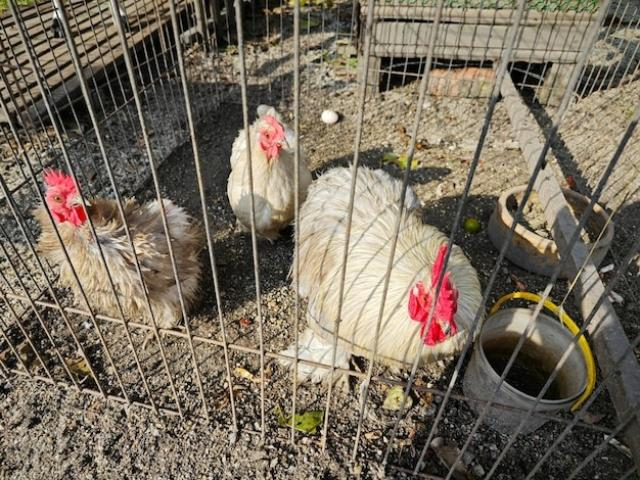Chicken: (287, 168, 484, 385), (36, 167, 202, 326), (230, 103, 311, 241)
